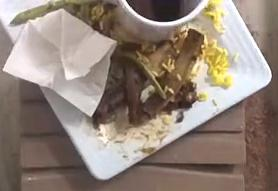green_beans: (10, 0, 115, 29)
ribs: (93, 26, 208, 127)
rice: (203, 35, 233, 88), (203, 0, 226, 34)
